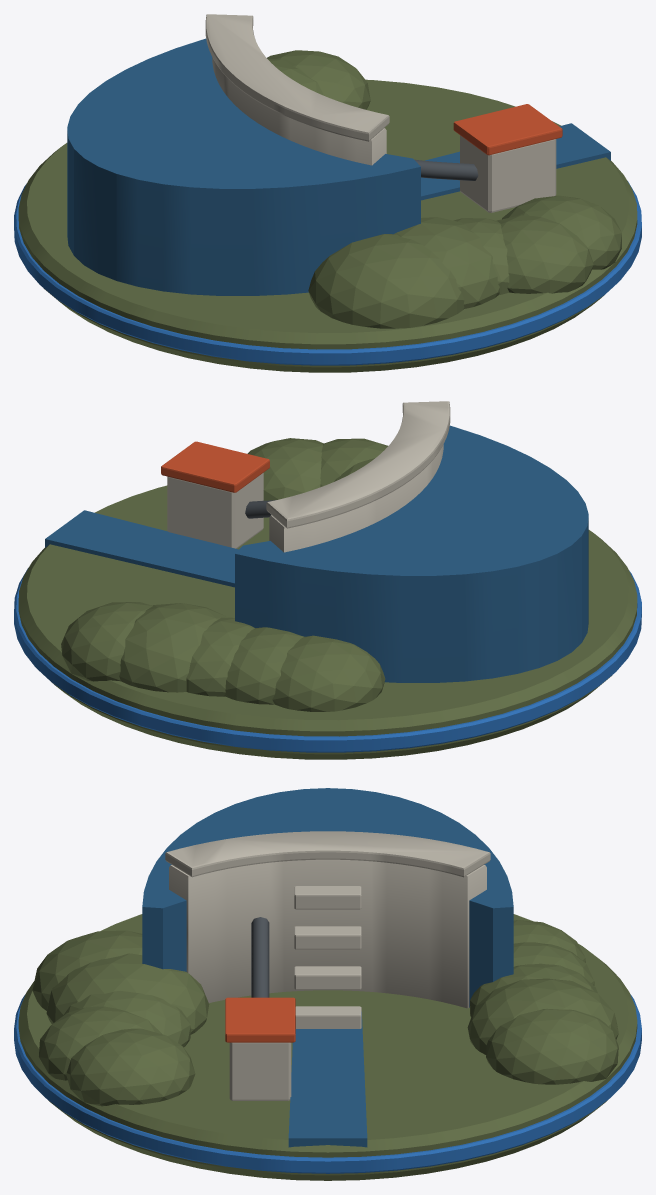
File: cuenca_represa.src.glb
3 views of the same model, one above another, from view 1: azimuth 30°, elevation 25°; view 2: azimuth 150°, elevation 25°; view 3: azimuth 270°, elevation 25° (orthographic).
Visible parts, largest first — view 1: geo_base, geo_water, geo_detail; view 2: geo_base, geo_water, geo_detail; view 3: geo_base, geo_detail, geo_water.
Boxes of the visible parts, box(x1,y1,x2,y2) form: geo_base: box(14, 50, 641, 372); geo_water: box(67, 38, 610, 295); geo_detail: box(205, 14, 562, 212); geo_base: box(14, 438, 641, 759); geo_water: box(45, 425, 588, 682); geo_detail: box(161, 401, 450, 552); geo_base: box(14, 914, 641, 1180); geo_detail: box(165, 831, 490, 1100); geo_water: box(142, 788, 513, 1147).
Bounding box in the file's own units: 0.1116 × 0.036 × 0.1116.
